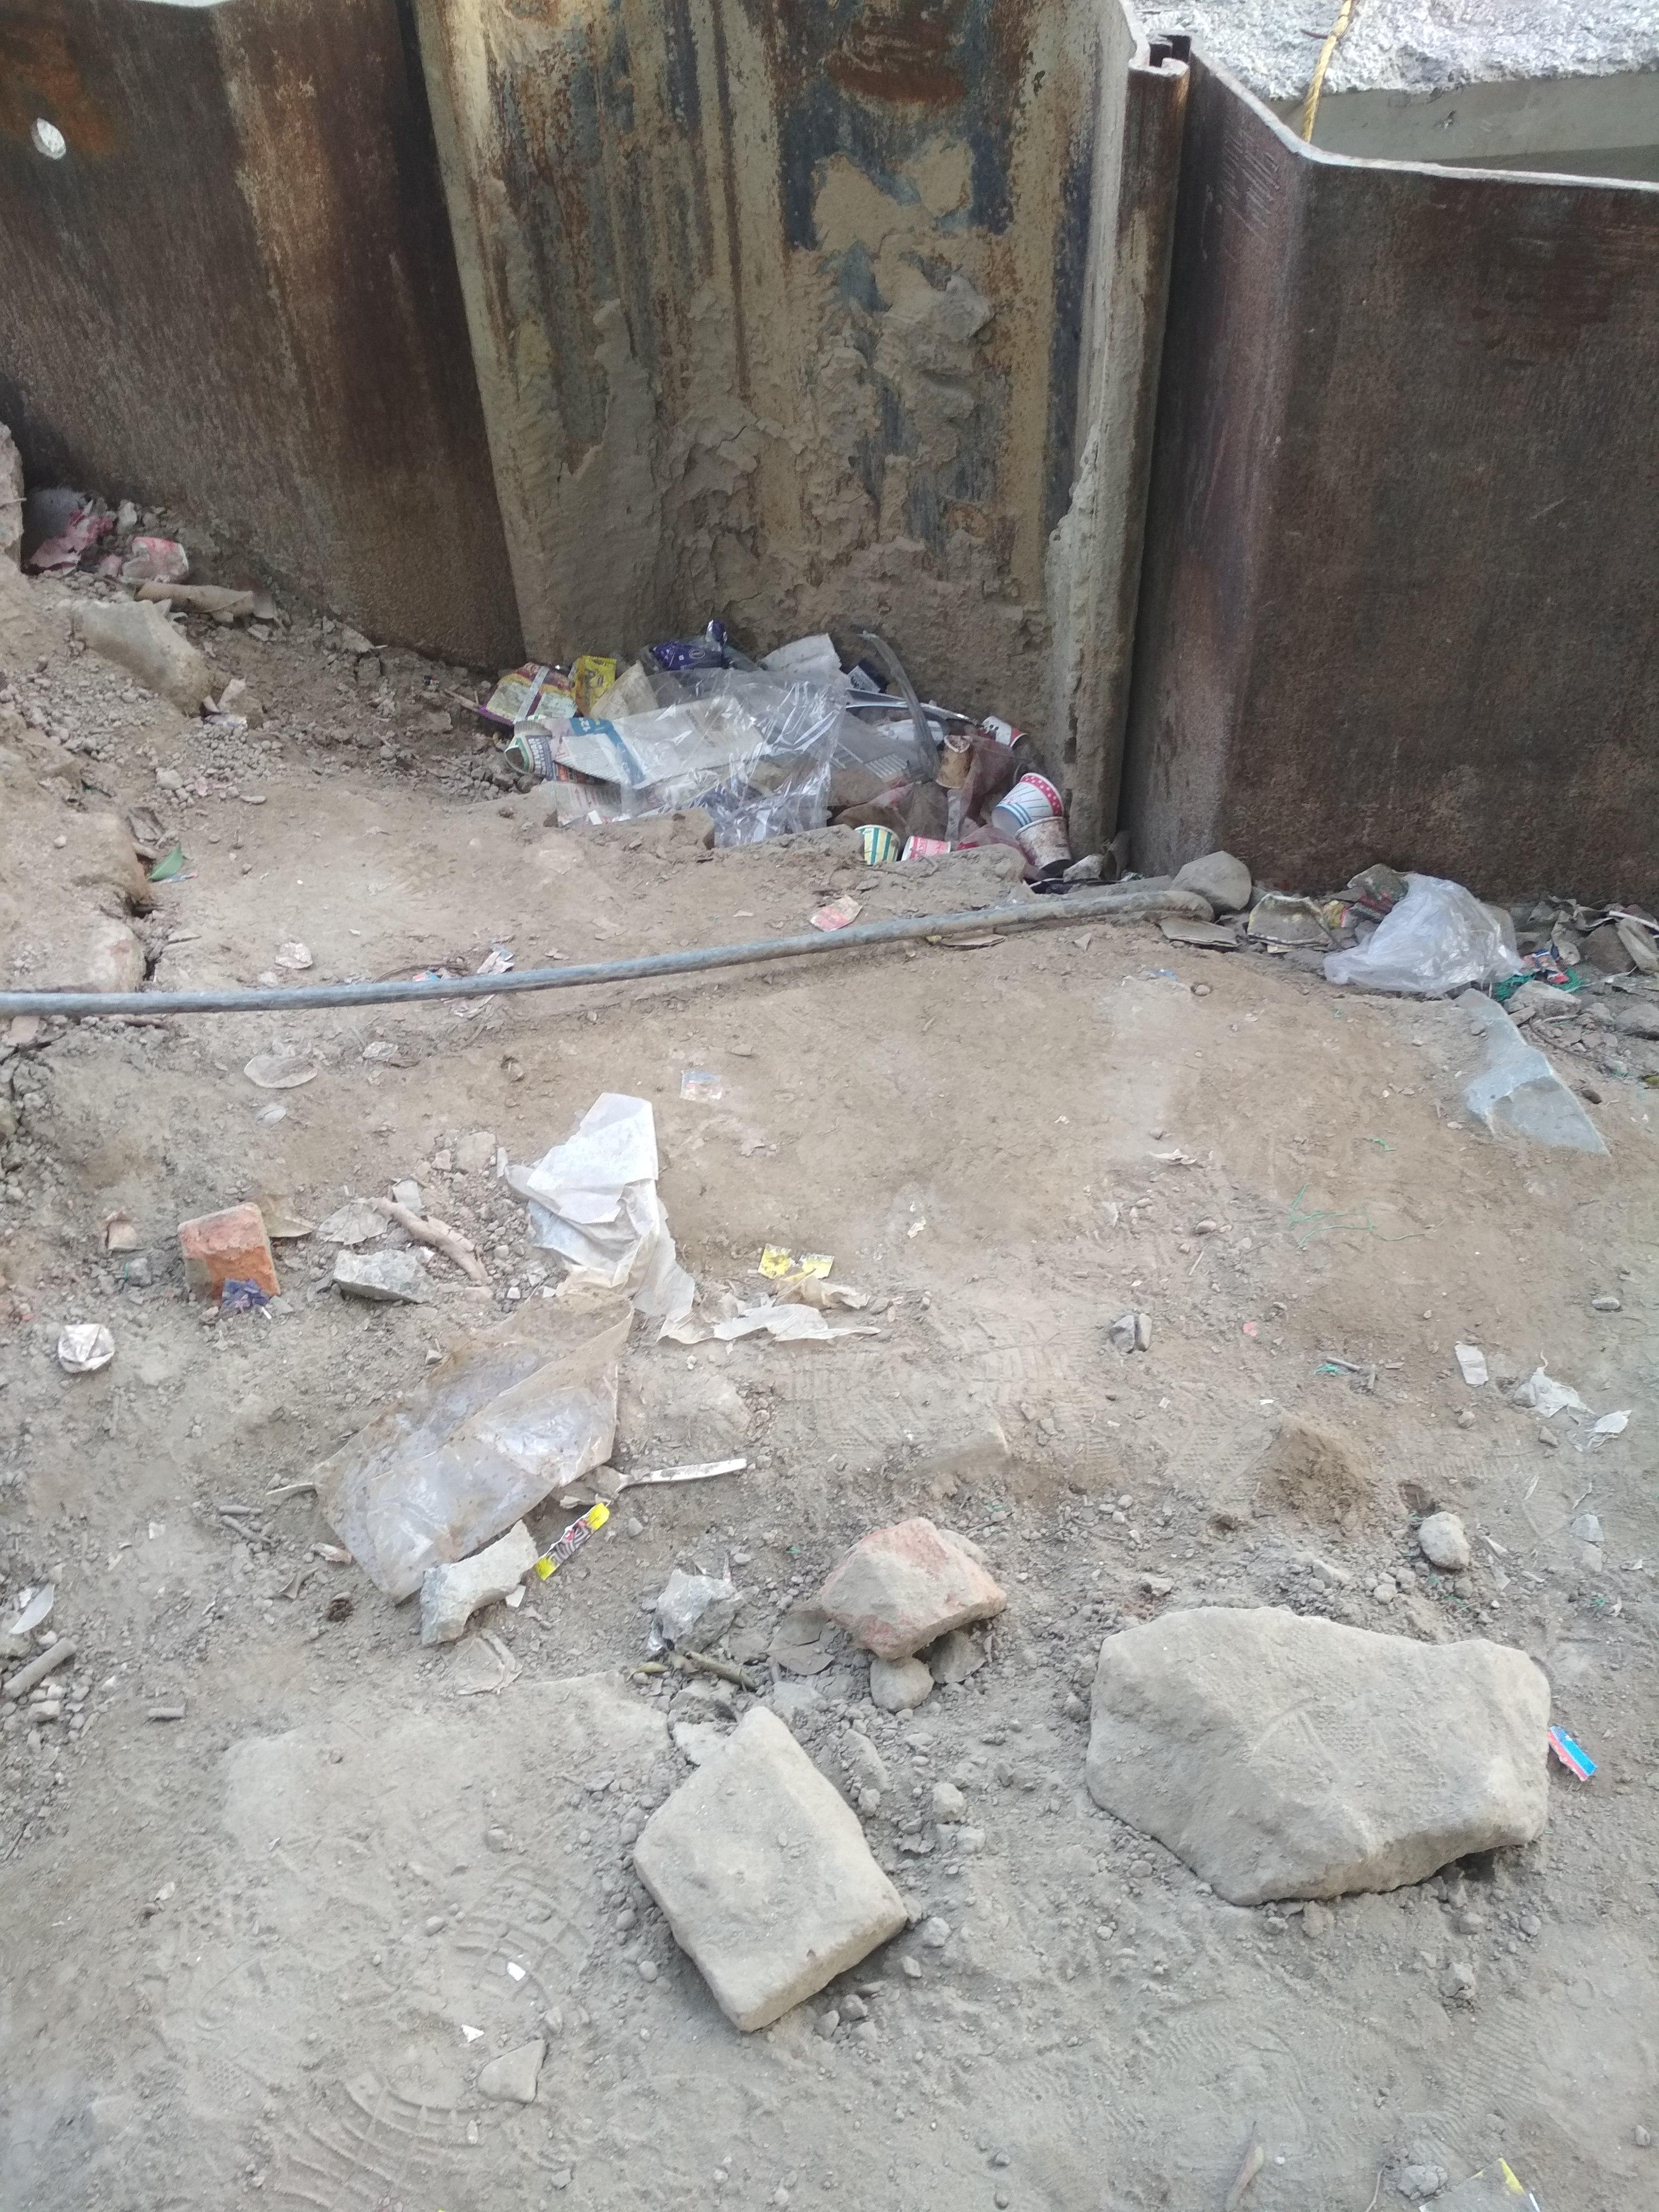trash: (476, 601, 1530, 1019)
